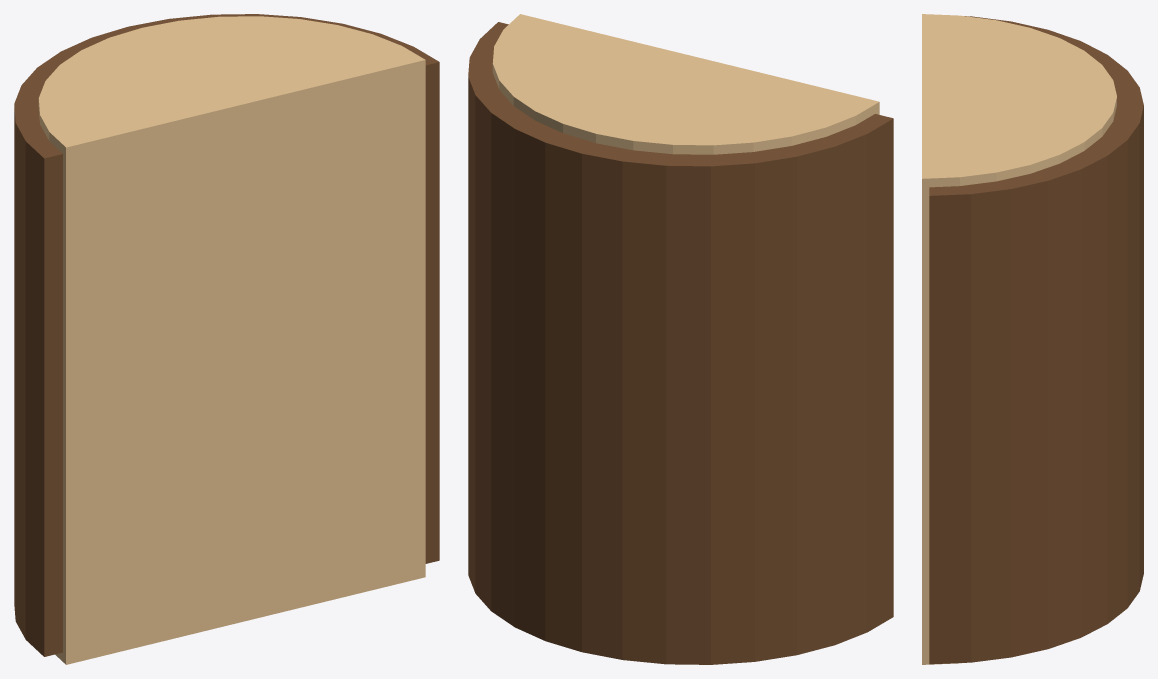
The model's file is LogJamHalf.obj.
3 views of the same model, side by side, from view 1: azimuth 30°, elevation 25°; view 2: azimuth 150°, elevation 25°; view 3: azimuth 270°, elevation 25° (orthographic). The views are drawn at different scales.
Parts seen in each view (by area): view 1: Wood, Bark; view 2: Bark, Wood; view 3: Bark, Wood.
Part boxes in pixels (<box>): Wood: <box>38,16,425,664</box>; Bark: <box>14,14,439,656</box>; Bark: <box>468,22,893,664</box>; Wood: <box>492,14,879,154</box>; Bark: <box>929,16,1143,664</box>; Wood: <box>922,14,1116,664</box>.
Bounding box in the file's own units: 1.76 × 2.2 × 0.91.
